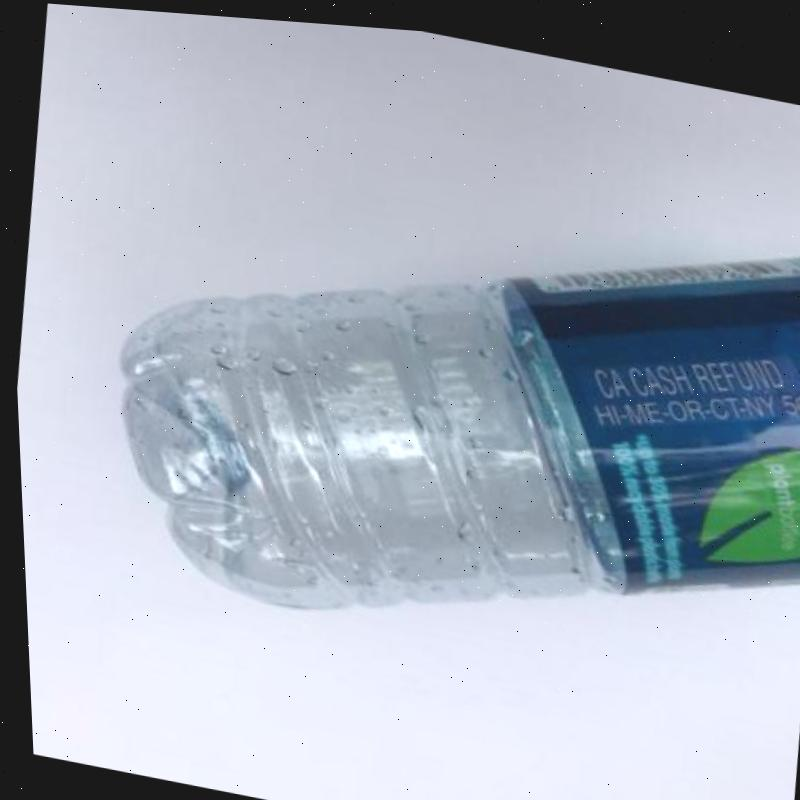botella: (81, 107, 800, 701)
